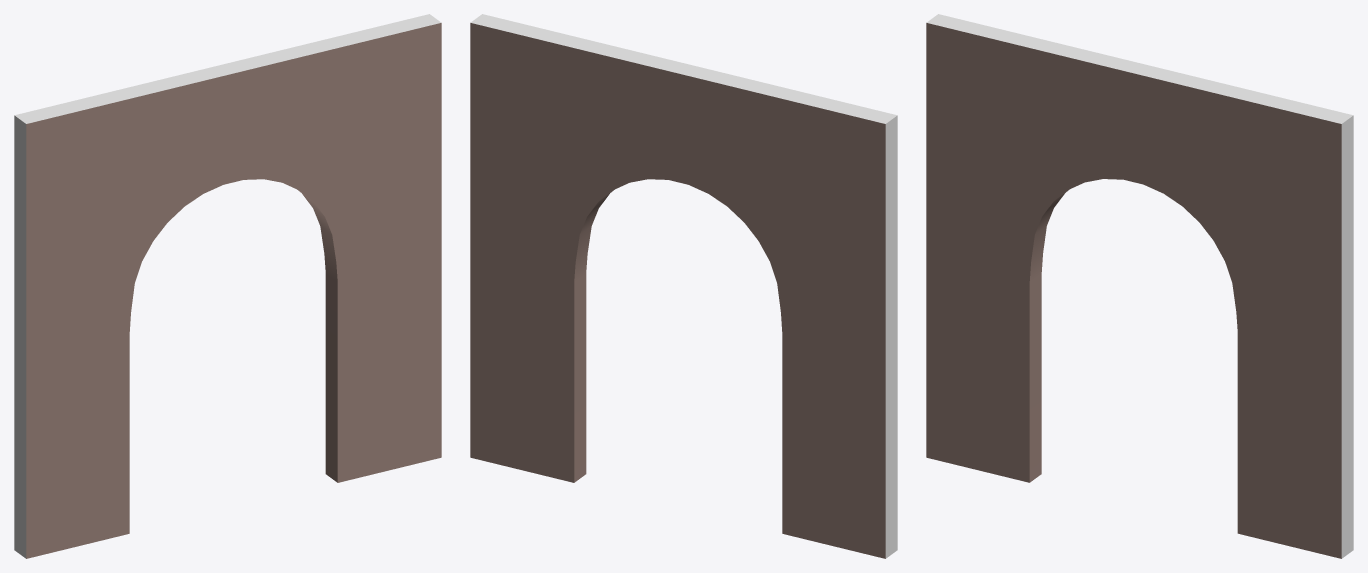
The model's file is wall_002.fbx.
3 views of the same model, side by side, from view 1: azimuth 30°, elevation 25°; view 2: azimuth 150°, elevation 25°; view 3: azimuth 330°, elevation 25° (orthographic).
Parts seen in each view (by area): view 1: wall_002; view 2: wall_002; view 3: wall_002.
Boxes of the visible parts, x1=… form: wall_002: x1=14, y1=14, x2=441, y2=558; wall_002: x1=470, y1=14, x2=897, y2=558; wall_002: x1=926, y1=14, x2=1353, y2=558.
Size of the model in its own units: 400 by 20 by 400.
